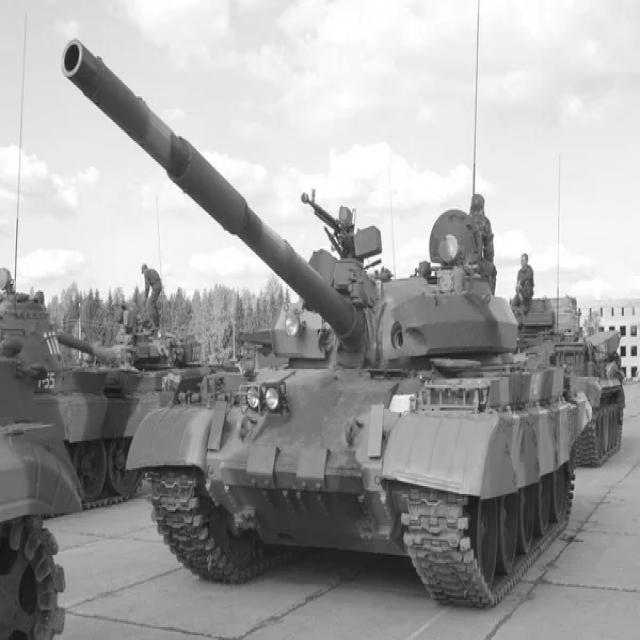Tank: (63, 35, 594, 617)
